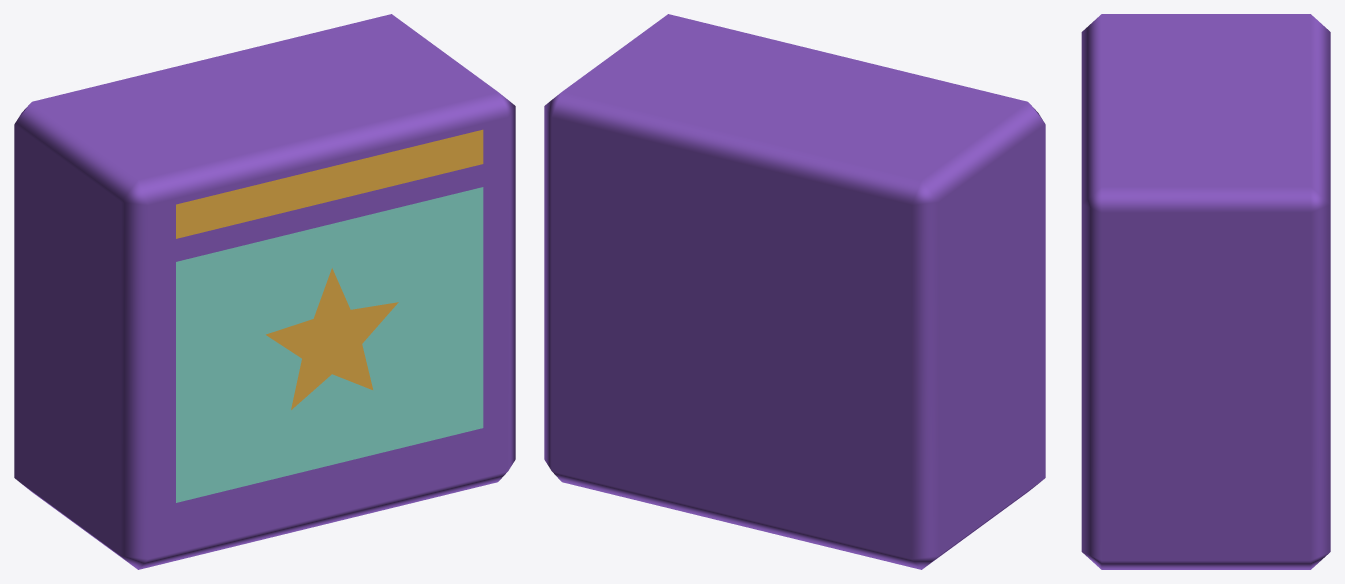
The model's file is CM_Product_ToyBox.fbx.
3 views of the same model, side by side, from view 1: azimuth 30°, elevation 25°; view 2: azimuth 150°, elevation 25°; view 3: azimuth 270°, elevation 25° (orthographic).
Visible parts, largest first — view 1: ToyBox; view 2: ToyBox; view 3: ToyBox.
Part boxes in pixels (x1,y1,x2,y2): ToyBox: (14,14,515,569); ToyBox: (544,14,1045,569); ToyBox: (1081,14,1330,569).
Bounding box in the file's own units: 1.8 × 1.03 × 1.7.
1 material, 1 textured.
